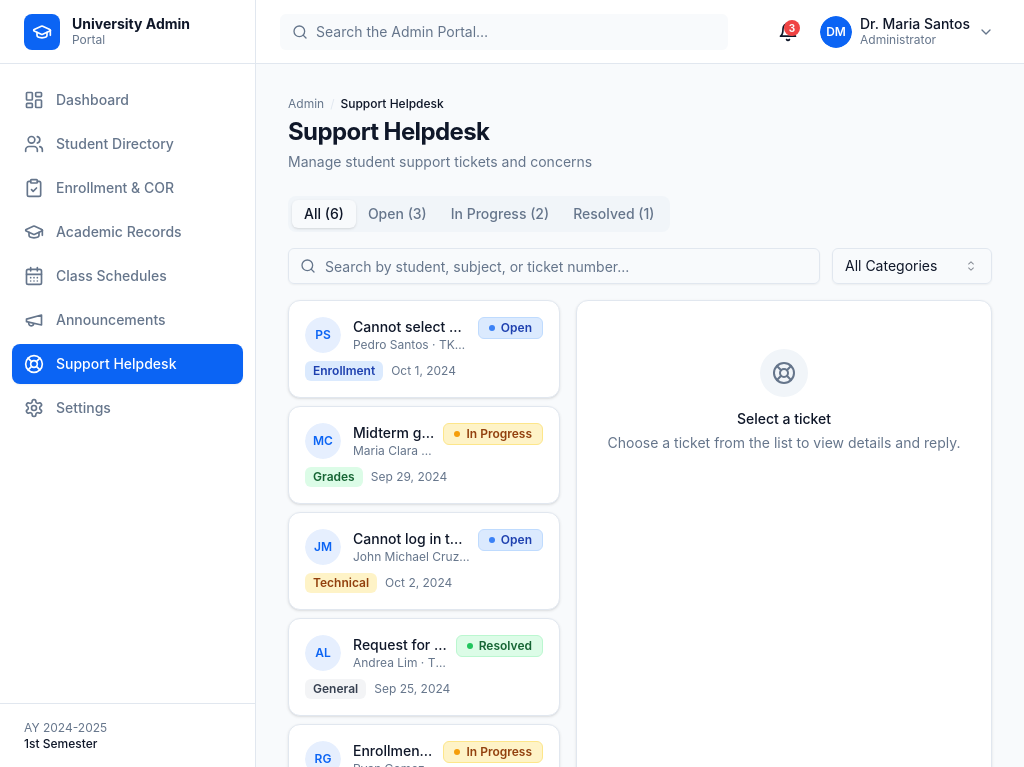
form completion and cross-page consistency › clears selected details when a status tab removes a ticket
The image size is (1024, 767).
Click the button with aria-label "Open ticket". click: (424, 349)
box: [288, 300, 560, 398]
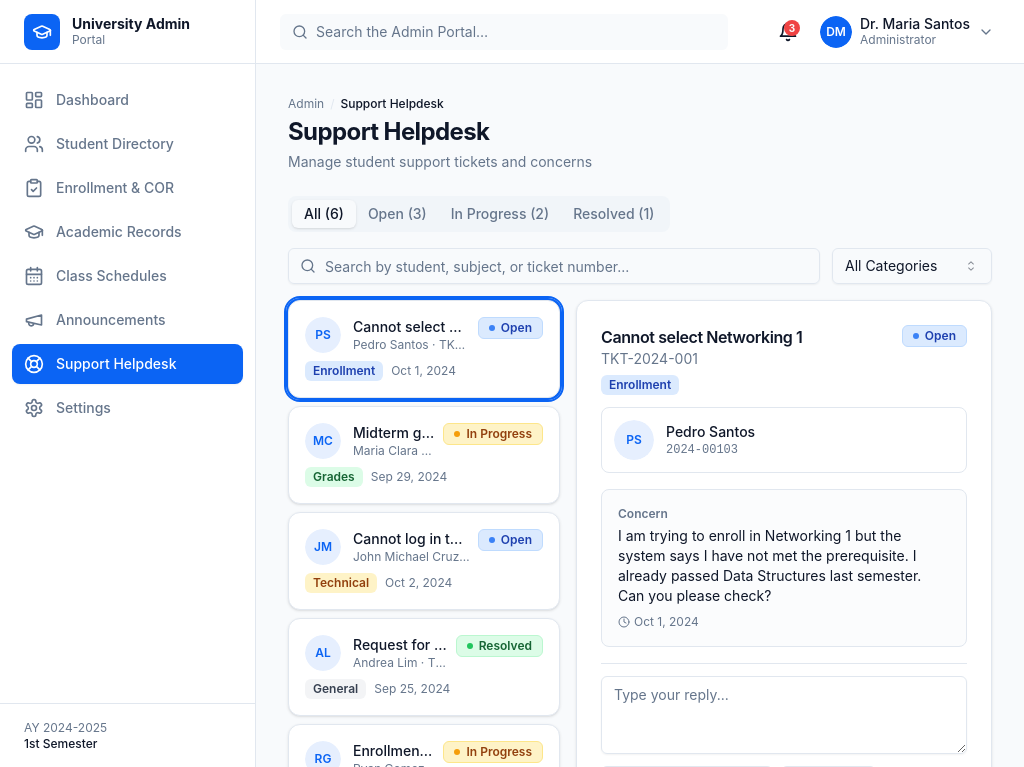
expect the text box named "Reply to selected ticket" is shown: met, box [601, 676, 967, 754]
Click the tab "Resolved (1)". click: (614, 214)
box: [561, 200, 666, 228]
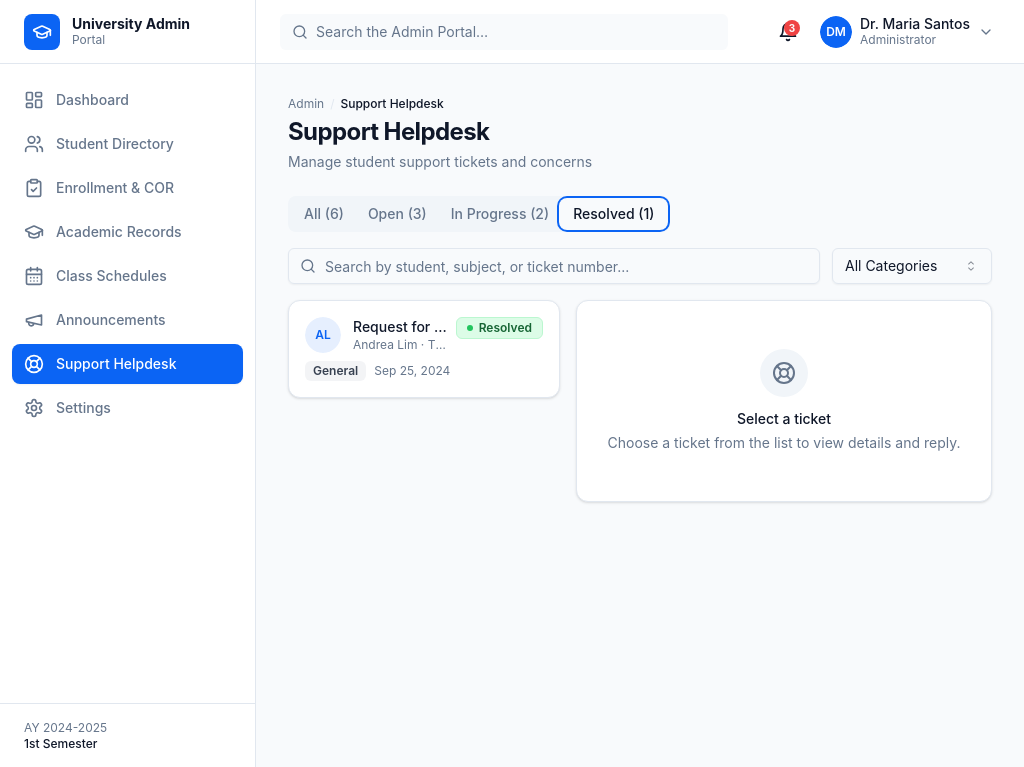
expect the text "Select a ticket" is shown: met, box [737, 410, 831, 427]
